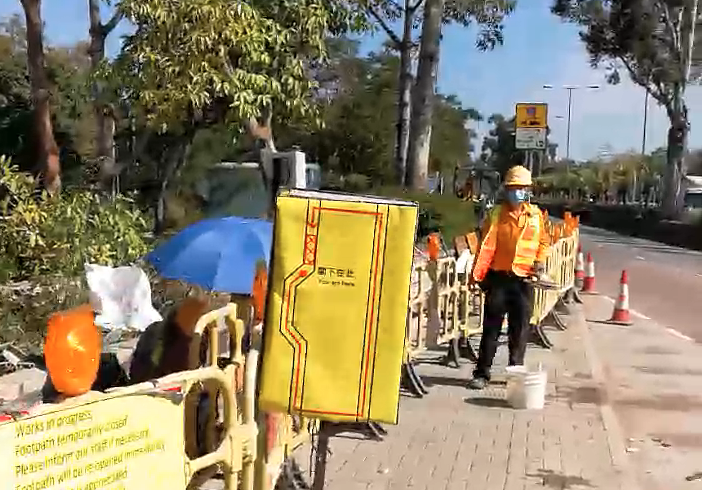Hard Hat: (502, 165, 532, 206)
Person: (472, 168, 542, 387)
Vest: (484, 187, 543, 281)
